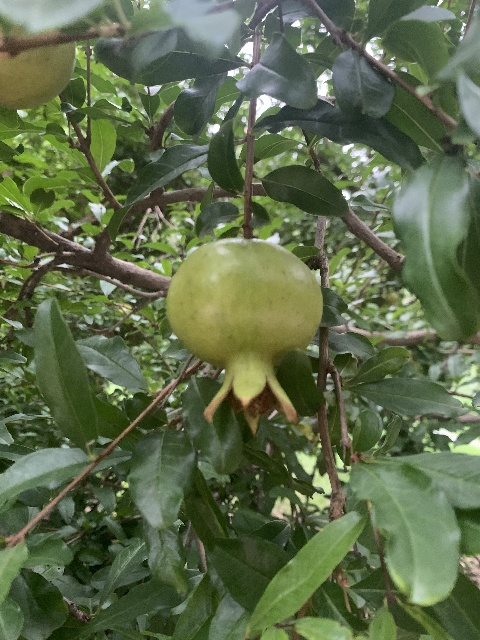mid-growth: (165, 238, 323, 436)
